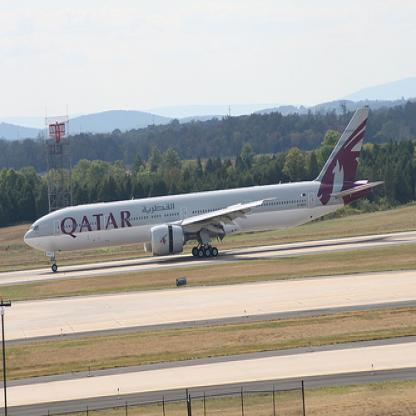aeroplane: (21, 105, 386, 275)
